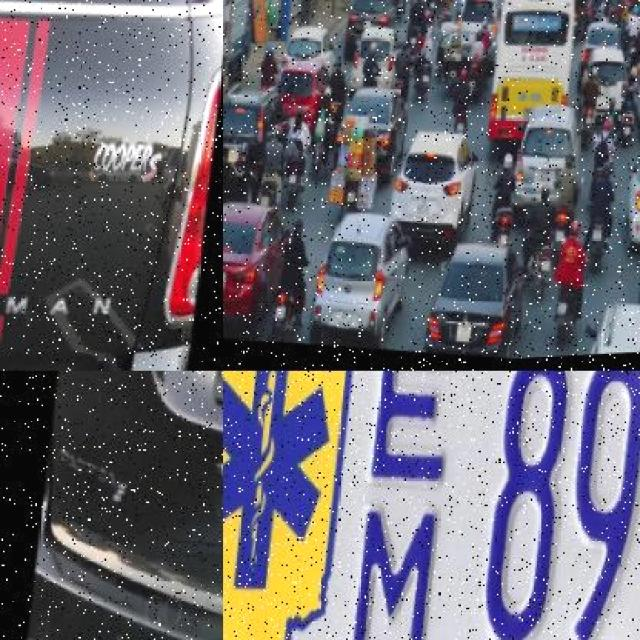licenseplate: (332, 371, 640, 640), (408, 199, 435, 226), (530, 165, 553, 193), (451, 326, 475, 352), (331, 306, 351, 336), (595, 86, 614, 114), (269, 302, 288, 326), (494, 232, 511, 258), (548, 298, 566, 322), (522, 109, 536, 129), (226, 144, 240, 164), (360, 19, 372, 32), (467, 35, 478, 47), (615, 0, 623, 5)
